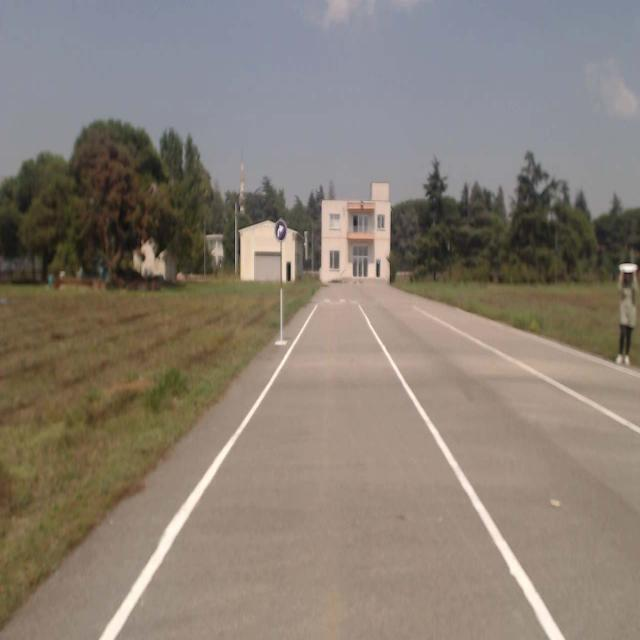sag: (276, 219, 286, 240)
